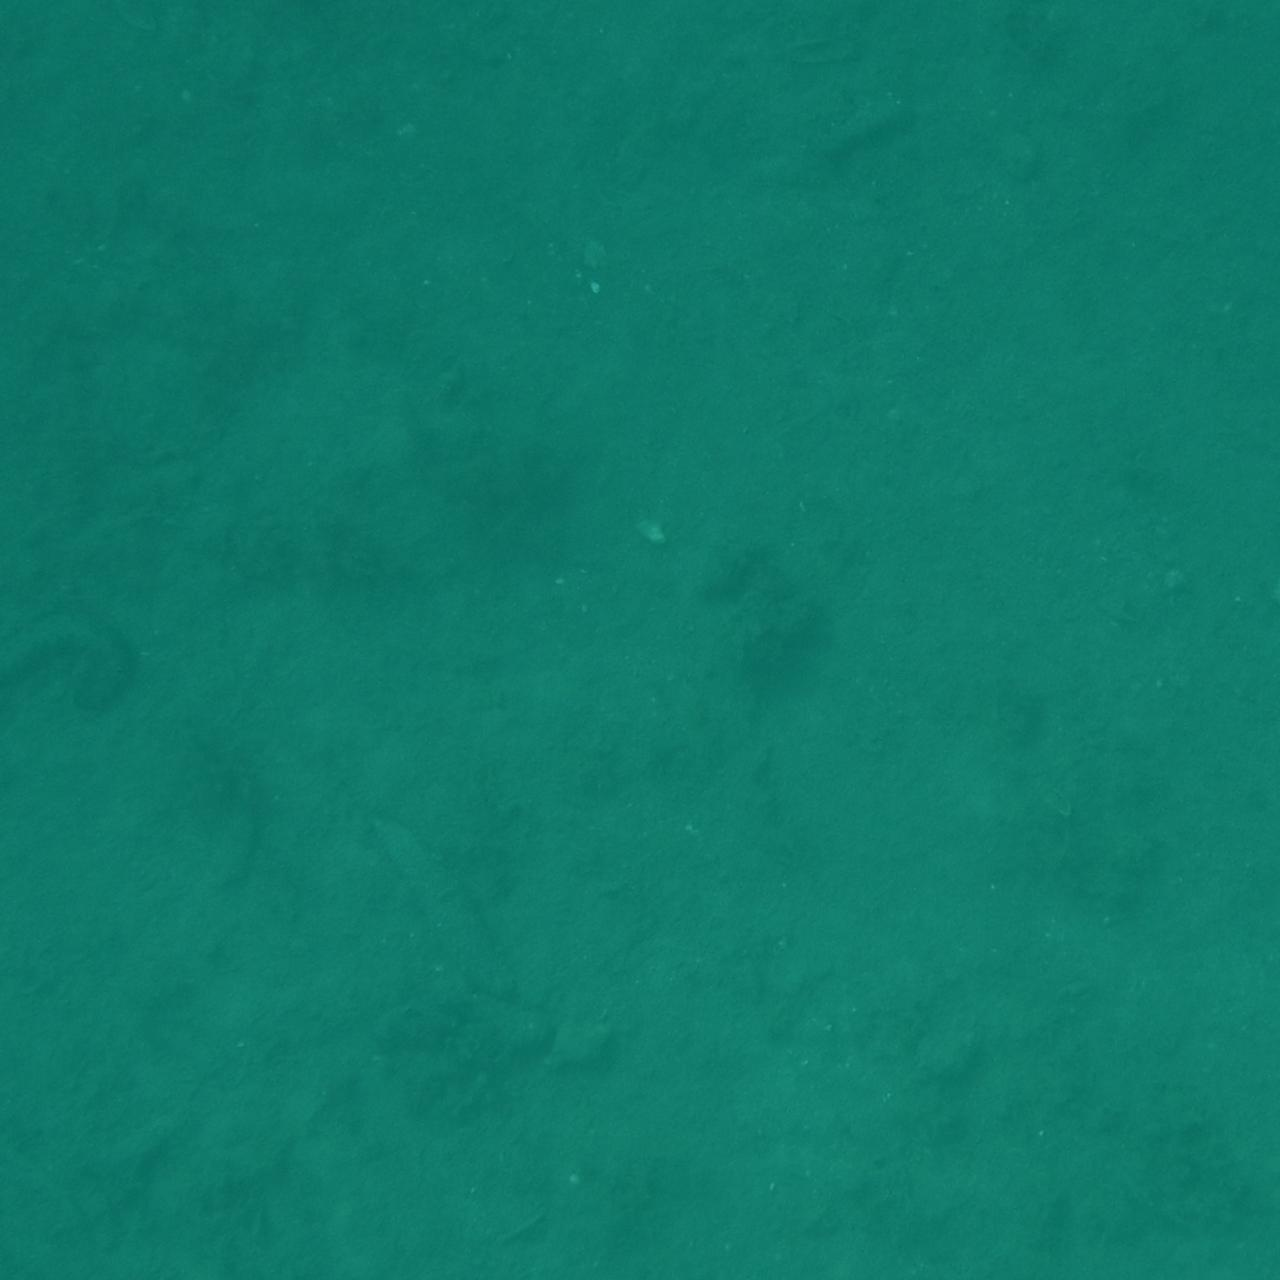Holothuria tubulosa: (1164, 444, 1280, 680), (1002, 1185, 1238, 1280), (0, 393, 118, 561), (0, 600, 147, 726), (844, 0, 1047, 89), (1155, 0, 1280, 142), (1110, 170, 1280, 273), (1141, 1179, 1280, 1280), (0, 1189, 154, 1280), (407, 1170, 529, 1280), (0, 1167, 109, 1280), (0, 120, 52, 339), (0, 0, 128, 88), (1200, 1139, 1280, 1280), (1185, 0, 1280, 117), (1160, 704, 1280, 789), (1228, 785, 1280, 961), (0, 0, 137, 66), (1200, 1177, 1280, 1280), (765, 1238, 954, 1280), (0, 0, 80, 93), (0, 0, 47, 111), (1193, 0, 1280, 60)
Rifiuto: (0, 1177, 137, 1280)
